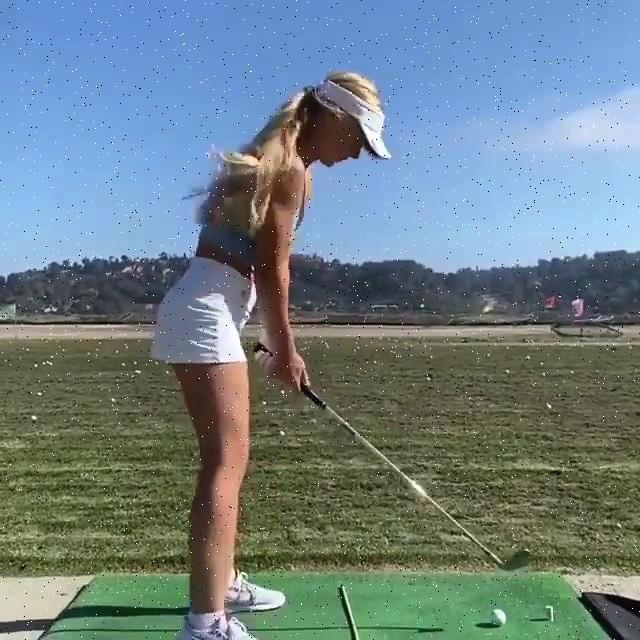ClubHandle: (252, 343, 530, 571)
ClubHead: (500, 549, 531, 571)
GolfBall: (490, 609, 507, 627)
